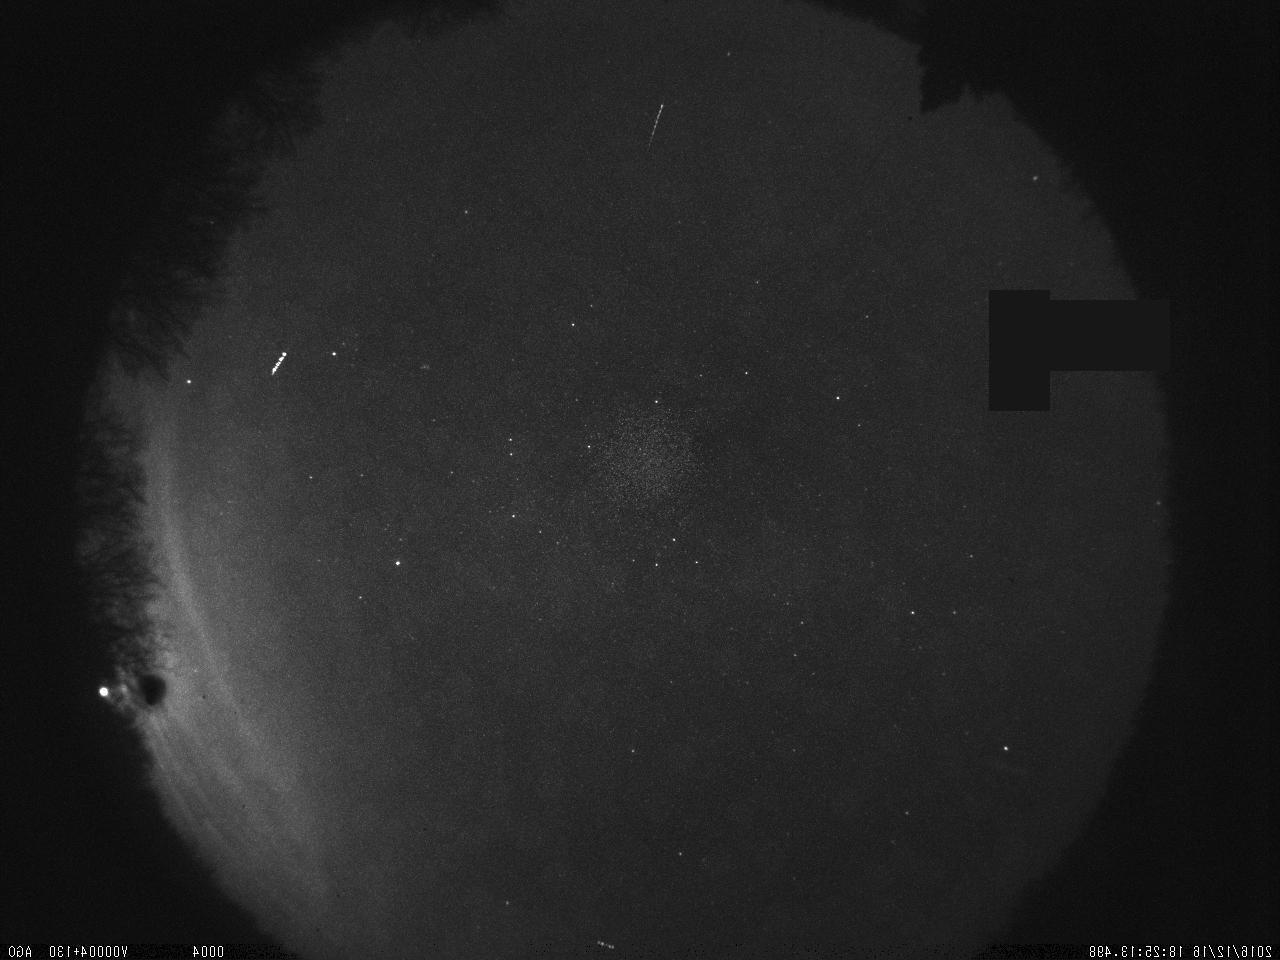meteor: (644, 94, 671, 153)
satelite: (261, 346, 296, 383)
